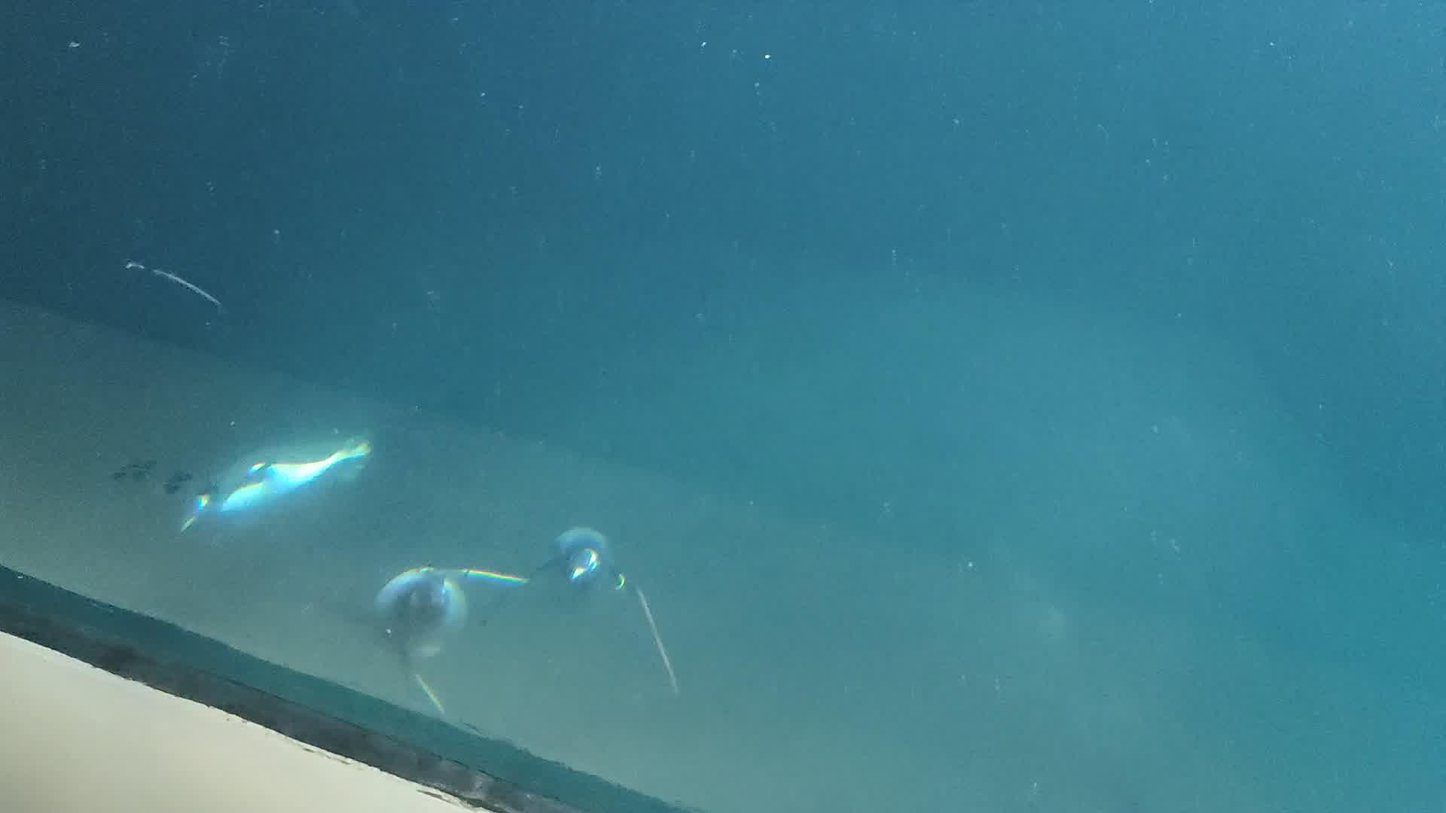apple: (374, 567, 530, 716), (181, 436, 373, 532), (531, 524, 628, 591)
